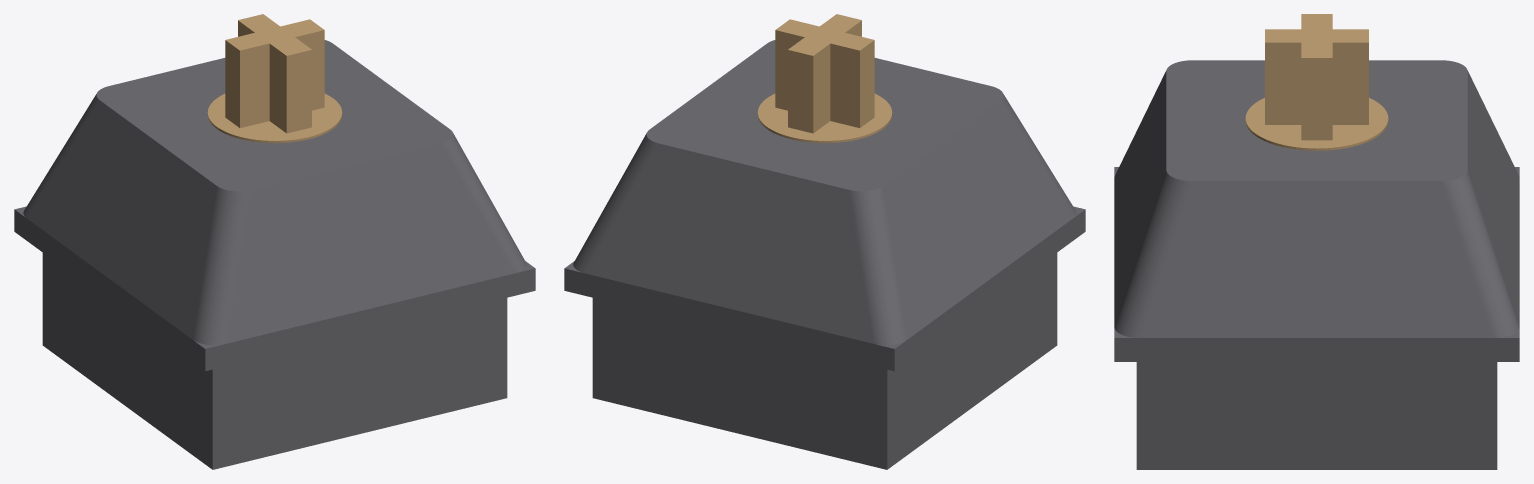
Rendered from mx_switch.glb.
The picture shows the model from 3 angles, left to right: view 1: azimuth 30°, elevation 25°; view 2: azimuth 150°, elevation 25°; view 3: azimuth 270°, elevation 25°; orthographic projection. The views are drawn at different scales.
Parts seen in each view (by area): view 1: housing, stem; view 2: housing, stem; view 3: housing, stem.
Part boxes in pixels (x1=…): housing: x1=14, y1=40, x2=535, y2=469; stem: x1=207, y1=14, x2=342, y2=143; housing: x1=564, y1=40, x2=1085, y2=469; stem: x1=757, y1=14, x2=892, y2=143; housing: x1=1114, y1=60, x2=1519, y2=469; stem: x1=1245, y1=14, x2=1388, y2=150.
Size of the model in its own units: 0.0156 by 0.0152 by 0.0156.
